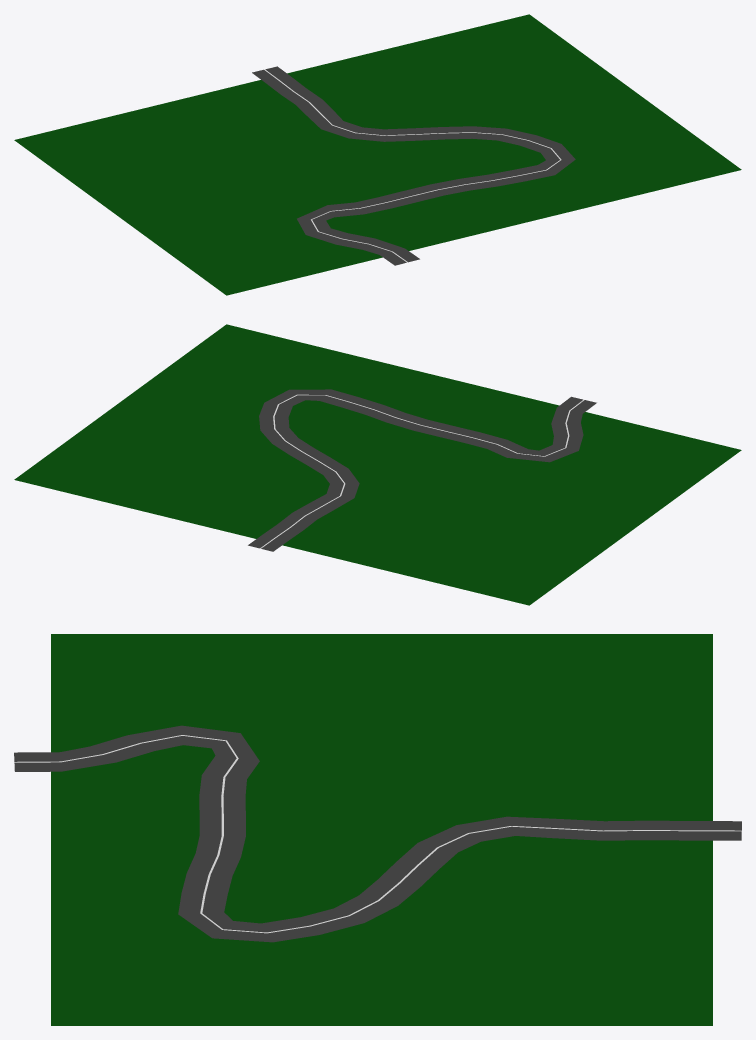
Rendered from glesbygd_v3.fbx.
The picture shows the model from 3 angles, top to bottom: view 1: azimuth 30°, elevation 25°; view 2: azimuth 150°, elevation 25°; view 3: azimuth 270°, elevation 25°; orthographic projection. The views are drawn at different scales.
Visible parts, largest first — view 1: Plane, Road; view 2: Plane, Road; view 3: Plane, Road.
Boxes of the visible parts, box(x1,y1,x2,y2) form: Plane: box(14, 14, 741, 295); Road: box(252, 66, 575, 265); Plane: box(14, 324, 741, 605); Road: box(248, 389, 596, 551); Plane: box(51, 634, 712, 1025); Road: box(14, 725, 741, 942).
Bounding box in the file's own units: 140 × 0.1 × 110.
